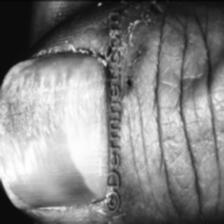Toxin: (0, 25, 107, 160), (124, 0, 165, 99)
